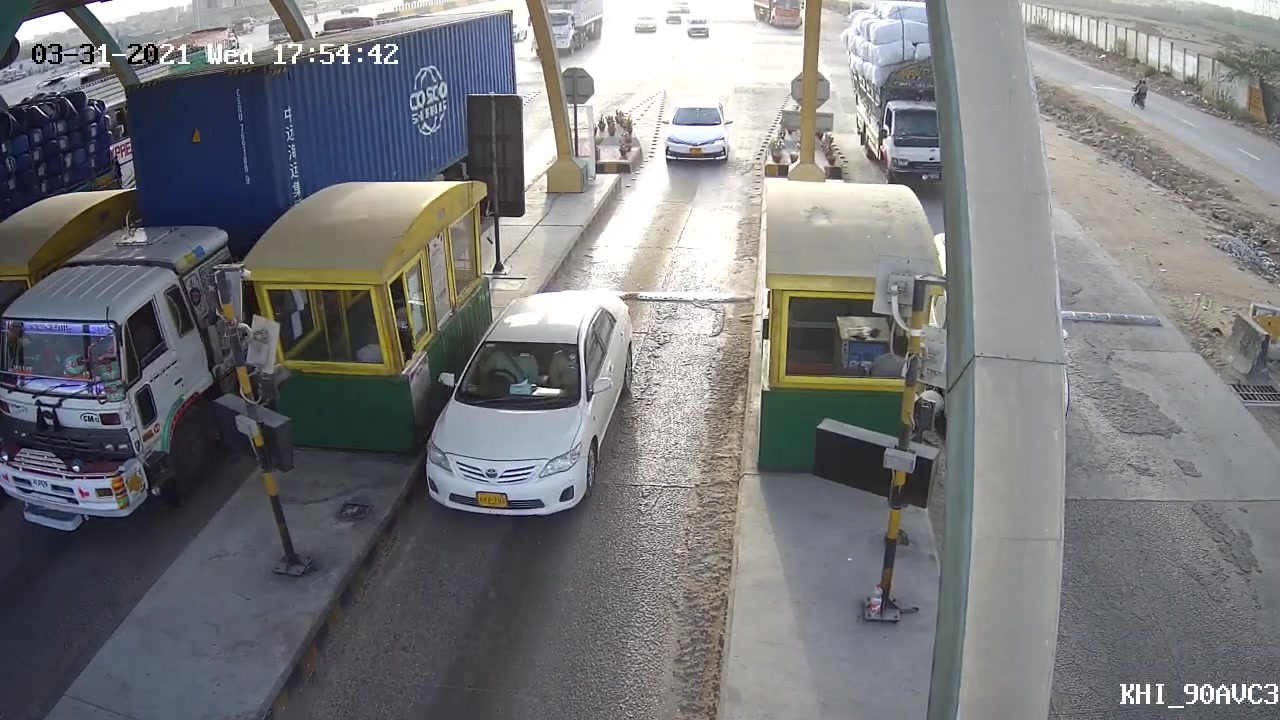F1: (414, 286, 640, 523)
